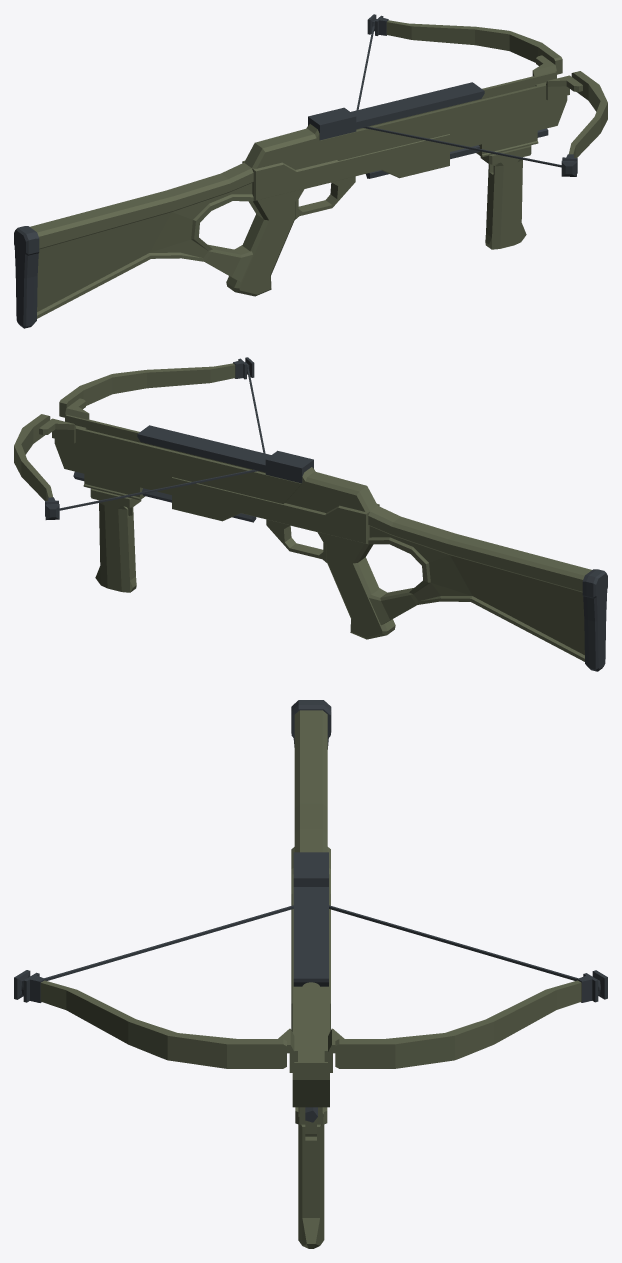
File: Crossbow.fbx
3 renders of one model, top to bottom at view 1: azimuth 30°, elevation 25°; view 2: azimuth 150°, elevation 25°; view 3: azimuth 270°, elevation 25°, orthographic. The views are drawn at different scales.
Parts seen in each view (by area): view 1: Crossbow; view 2: Crossbow; view 3: Crossbow.
Part boxes in pixels (<box>): Crossbow: <box>14,14,607,328</box>; Crossbow: <box>14,357,607,671</box>; Crossbow: <box>14,700,607,1248</box>.
Bounding box in the file's own units: 197 × 57.78 × 125.
